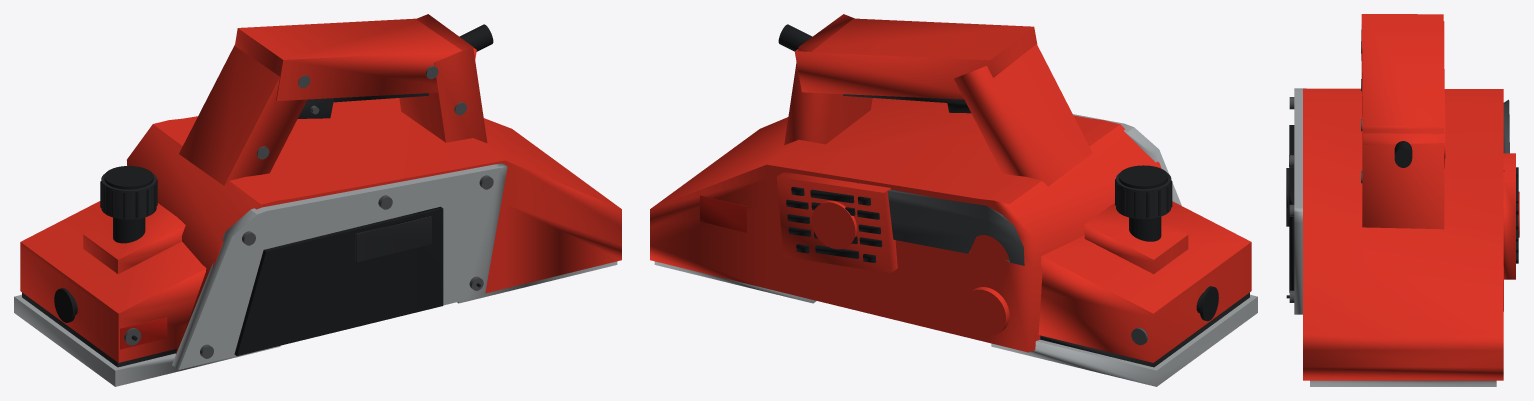
The model's file is mesin serut kayu.glb.
3 renders of one model, left to right at view 1: azimuth 30°, elevation 25°; view 2: azimuth 150°, elevation 25°; view 3: azimuth 270°, elevation 25°, orthographic. The views are drawn at different scales.
Visible parts, largest first — view 1: MAIN_RED_BODY, SIDE_ALUMINUM_COVER, BLACK_SIDE_COVER, FRONT_RED_HOUSING, HANDLE_TOP, HANDLE_FRONT, HANDLE_BACK, FRONT_BASE, FRONT_RED_HOUSING.001, KNOB_GRIP.004, MODEL_LABEL, BLACK_UNDERSIDE (+7 smaller); view 2: MAIN_RED_BODY, FRONT_RED_HOUSING, HANDLE_TOP, HANDLE_FRONT, Kubus, Kubus.001, FRONT_BASE, HANDLE_BACK, FRONT_RED_HOUSING.001, KNOB_GRIP.004, REAR_BLACK_COVER.014, REAR_CIRCULAR_DETAIL (+8 smaller); view 3: MAIN_RED_BODY, HANDLE_TOP, HANDLE_BACK, SIDE_ALUMINUM_COVER, Kubus, REAR_BASE, BLACK_SIDE_COVER, CABLE_STRAIN_RELIEF, Kubus.001, SIDE_SCREW_02, REAR_BLACK_COVER.014, MODEL_LABEL.
Boxes of the visible parts, x1,y1,x2,y2 form: MAIN_RED_BODY: (127, 98, 621, 353); SIDE_ALUMINUM_COVER: (172, 163, 507, 369); BLACK_SIDE_COVER: (234, 206, 443, 356); FRONT_RED_HOUSING: (20, 201, 206, 362); HANDLE_TOP: (235, 18, 476, 100); HANDLE_FRONT: (179, 45, 306, 185); HANDLE_BACK: (399, 14, 487, 142); FRONT_BASE: (14, 294, 280, 386); FRONT_RED_HOUSING.001: (83, 203, 185, 274); KNOB_GRIP.004: (100, 166, 157, 219); MODEL_LABEL: (355, 215, 431, 262); BLACK_UNDERSIDE: (22, 292, 176, 367); MAIN_RED_BODY: (650, 98, 1161, 352); FRONT_RED_HOUSING: (1038, 201, 1251, 362); HANDLE_TOP: (794, 18, 1037, 99); HANDLE_FRONT: (954, 44, 1092, 186); Kubus: (776, 172, 897, 272); Kubus.001: (857, 183, 1024, 265); FRONT_BASE: (991, 294, 1257, 386); HANDLE_BACK: (784, 14, 872, 144); FRONT_RED_HOUSING.001: (1084, 203, 1188, 274); KNOB_GRIP.004: (1115, 165, 1172, 219); REAR_BLACK_COVER.014: (786, 187, 882, 262); REAR_CIRCULAR_DETAIL: (962, 287, 1009, 336); MAIN_RED_BODY: (1303, 88, 1503, 380); HANDLE_TOP: (1361, 14, 1445, 168); HANDLE_BACK: (1362, 117, 1444, 229); SIDE_ALUMINUM_COVER: (1294, 88, 1306, 314); Kubus: (1503, 153, 1515, 279); REAR_BASE: (1310, 380, 1496, 386); BLACK_SIDE_COVER: (1289, 125, 1294, 292); CABLE_STRAIN_RELIEF: (1394, 141, 1412, 167); Kubus.001: (1503, 99, 1509, 171); SIDE_SCREW_02: (1286, 97, 1294, 302); REAR_BLACK_COVER.014: (1516, 167, 1518, 263); MODEL_LABEL: (1286, 168, 1289, 226).
Size of the model in its own units: 6.49 by 3.17 by 2.84.
